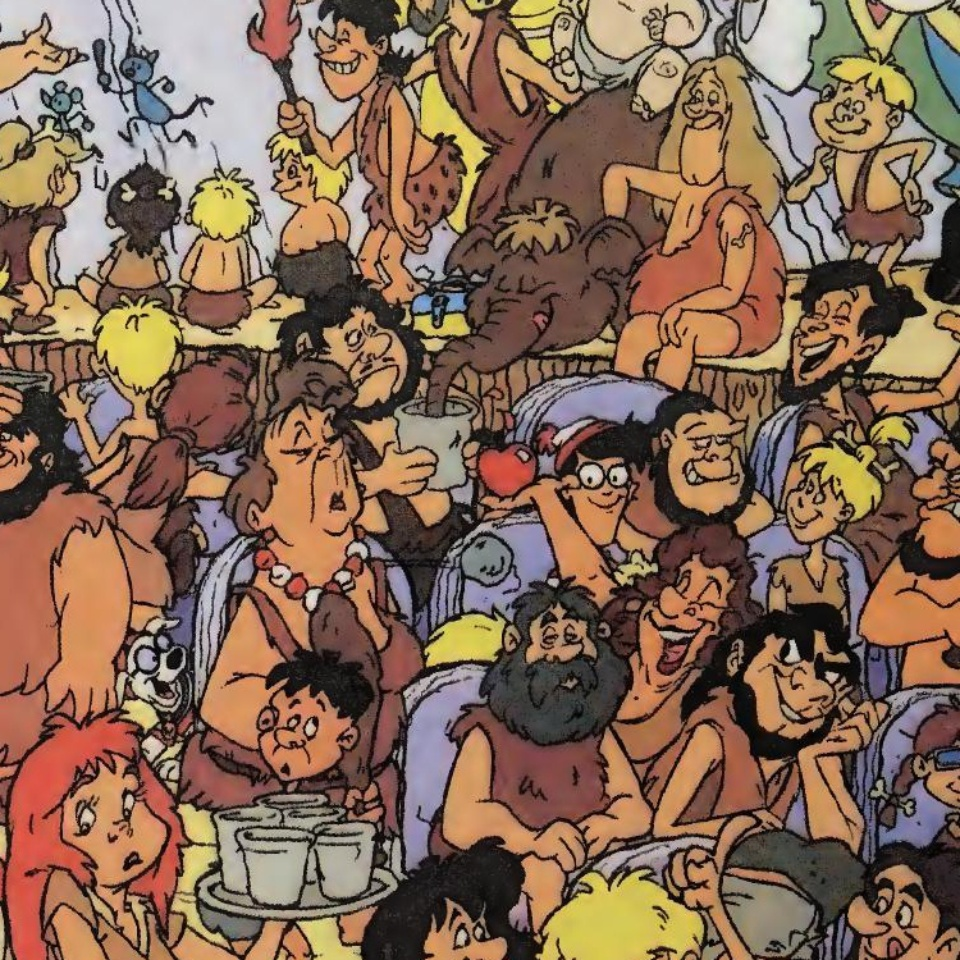waldo: (545, 411, 651, 551)
